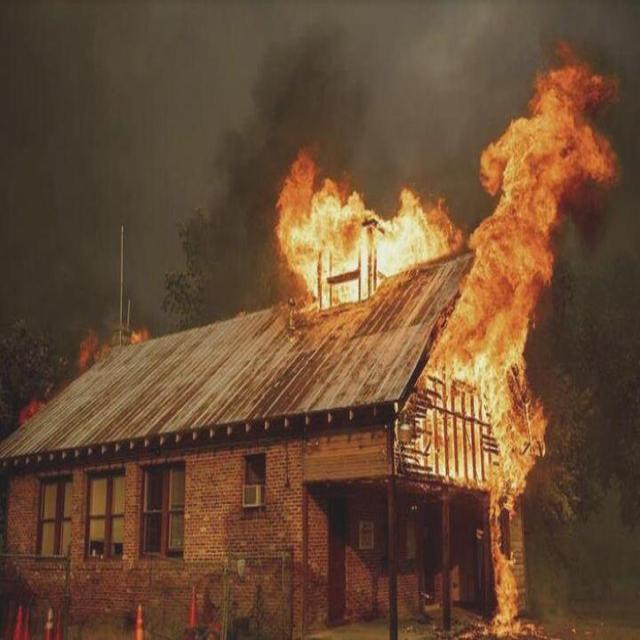Fire: (492, 39, 610, 253), (267, 159, 433, 261), (459, 265, 556, 388)
